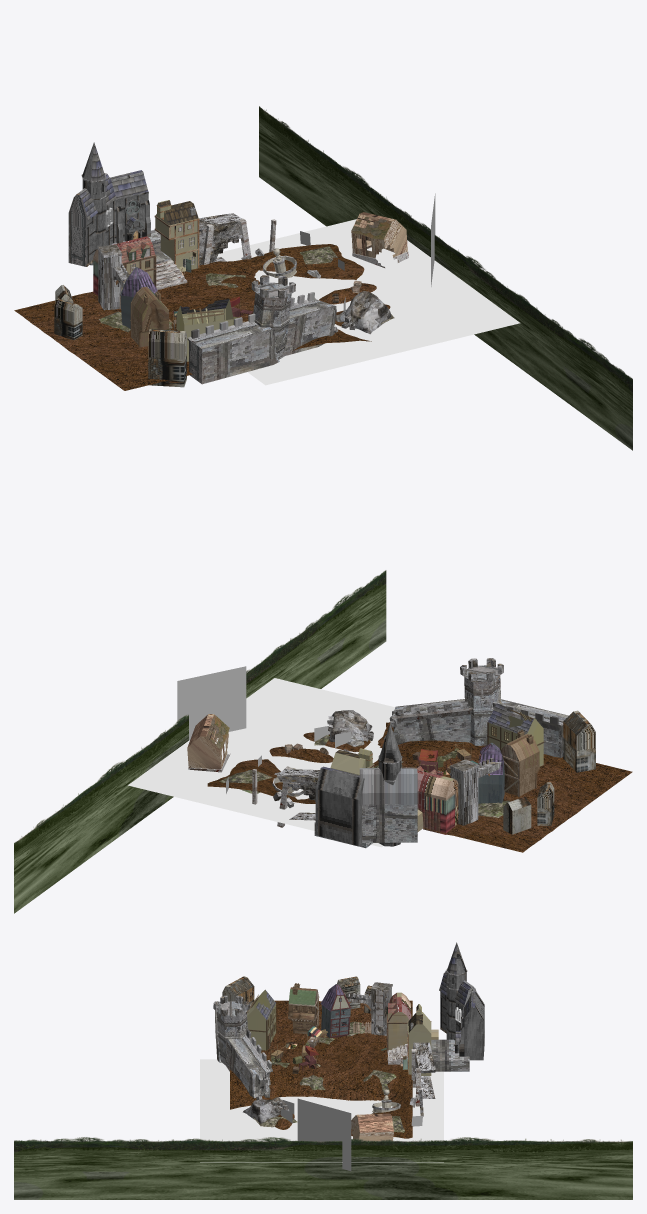
Rendered from Arena.gltf.
The picture shows the model from 3 angles, top to bottom: view 1: azimuth 30°, elevation 25°; view 2: azimuth 150°, elevation 25°; view 3: azimuth 270°, elevation 25°; orthographic projection. The views are drawn at different scales.
Visible parts, largest first — view 1: pngwing.com, Plane.008, ground, Cube.011, Cube.012, Cube.046, Cube.084, Plane.020, Cube.074, Cube.010, Cube.036, Cylinder.001 (+7 smaller); view 2: pngwing.com, Plane.008, ground, Cube.011, Cube.046, pngwing.com (1), Cube.084, Cube.018, Cube.036, Plane.020, Cylinder.001, Cube.010 (+8 smaller); view 3: pngwing.com, ground, Plane.008, Cube.011, pngwing.com (1), Cube.084, Cube.105, Cube.074, Cube.036, Cube.007, Cube.018, Cylinder.001 (+8 smaller).
Part boxes in pixels (left/top/right/bottom): pngwing.com: left=259, top=106, right=632, bottom=450; Plane.008: left=217, top=219, right=520, bottom=385; ground: left=14, top=244, right=390, bottom=390; Cube.011: left=187, top=275, right=337, bottom=384; Cube.012: left=154, top=200, right=199, bottom=272; Cube.046: left=68, top=173, right=116, bottom=266; Cube.084: left=110, top=170, right=150, bottom=243; Plane.020: left=351, top=212, right=408, bottom=267; Cube.074: left=199, top=213, right=276, bottom=265; Cube.010: left=148, top=329, right=186, bottom=387; Cube.036: left=130, top=286, right=174, bottom=347; Cylinder.001: left=97, top=244, right=129, bottom=310; pngwing.com: left=14, top=570, right=386, bottom=913; Plane.008: left=128, top=678, right=395, bottom=847; ground: left=207, top=722, right=632, bottom=852; Cube.011: left=383, top=658, right=568, bottom=757; Cube.046: left=359, top=767, right=417, bottom=842; pngwing.com (1): left=177, top=666, right=246, bottom=740; Cube.084: left=315, top=766, right=364, bottom=845; Cube.018: left=406, top=766, right=458, bottom=834; Cube.036: left=500, top=730, right=540, bottom=796; Plane.020: left=187, top=714, right=230, bottom=772; Cylinder.001: left=449, top=758, right=501, bottom=825; Cube.010: left=563, top=710, right=595, bottom=772; pngwing.com: left=14, top=1137, right=632, bottom=1199; ground: left=230, top=1000, right=412, bottom=1138; Plane.008: left=200, top=1059, right=443, bottom=1162; Cube.011: left=213, top=995, right=272, bottom=1100; pngwing.com (1): left=297, top=1098, right=351, bottom=1170; Cube.084: left=454, top=992, right=484, bottom=1060; Cube.105: left=247, top=989, right=276, bottom=1050; Cube.074: left=409, top=1042, right=435, bottom=1116; Cube.036: left=287, top=983, right=319, bottom=1034; Cube.007: left=320, top=984, right=351, bottom=1037; Cube.018: left=380, top=992, right=438, bottom=1050; Cylinder.001: left=344, top=982, right=392, bottom=1035.
Bounding box in the file's own units: 144 × 64.05 × 242.
